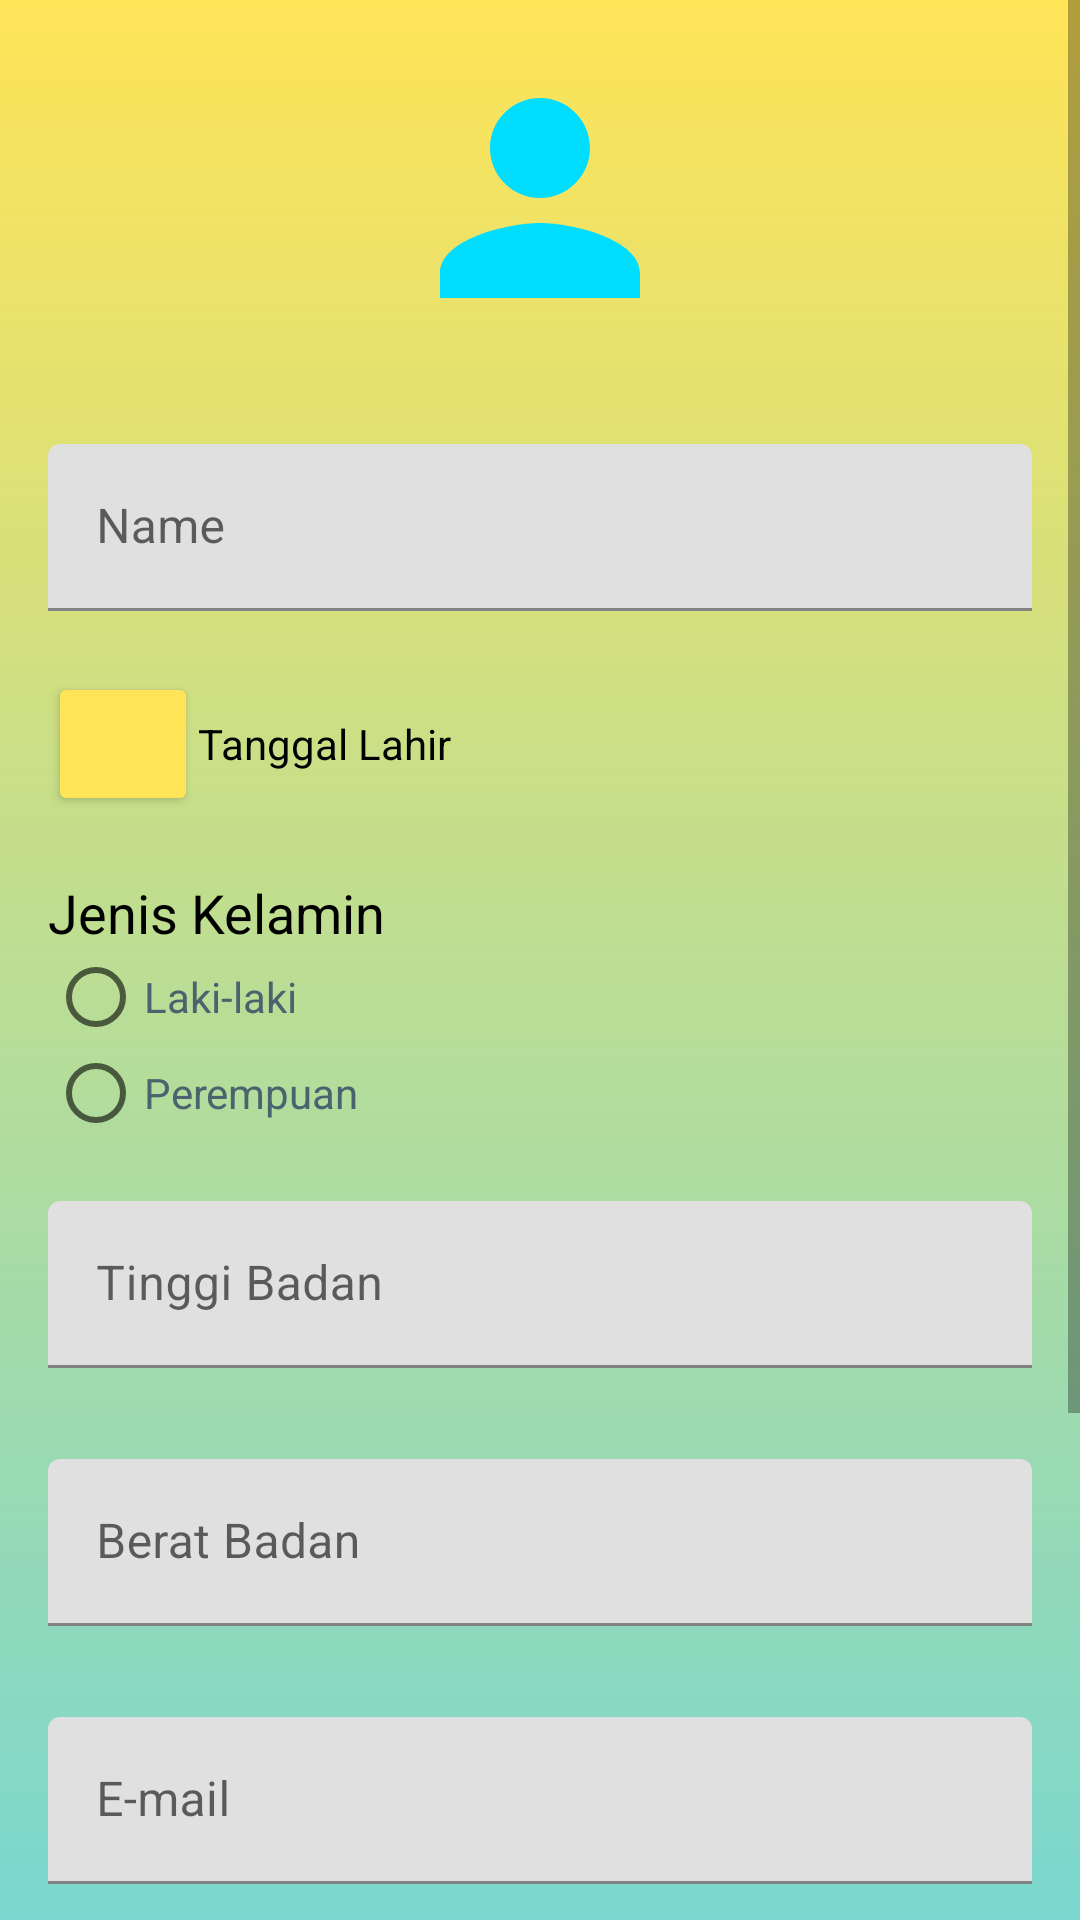

Screen size 1080x1920. Icon name, then its center in pixels as point (x, y):
person: point (540, 198)
